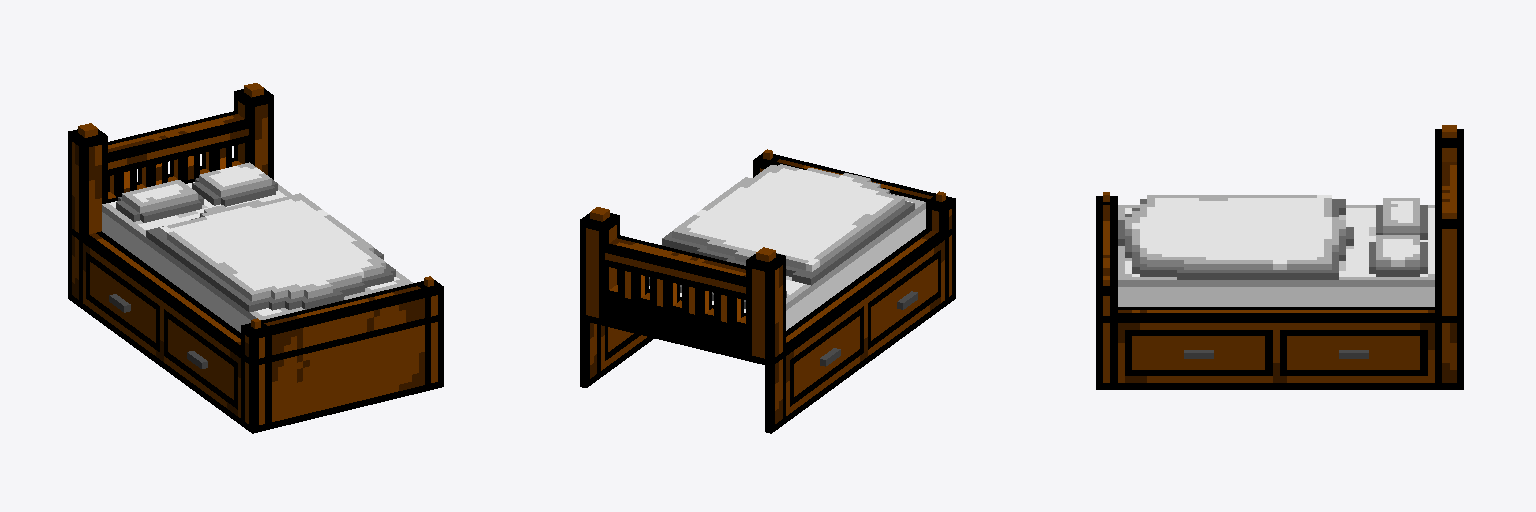
The picture shows the model from 3 angles: view 1: azimuth 30°, elevation 25°; view 2: azimuth 150°, elevation 25°; view 3: azimuth 270°, elevation 25°; orthographic projection.
Visible parts, largest first — view 1: Bed; view 2: Bed; view 3: Bed.
Part boxes in pixels (left/top/right/bottom): Bed: left=68, top=83, right=443, bottom=433; Bed: left=580, top=149, right=955, bottom=433; Bed: left=1096, top=125, right=1463, bottom=389.
Size of the model in its own units: 3.2 by 2.6 by 5.
Materials: 1 (1 with a texture image).